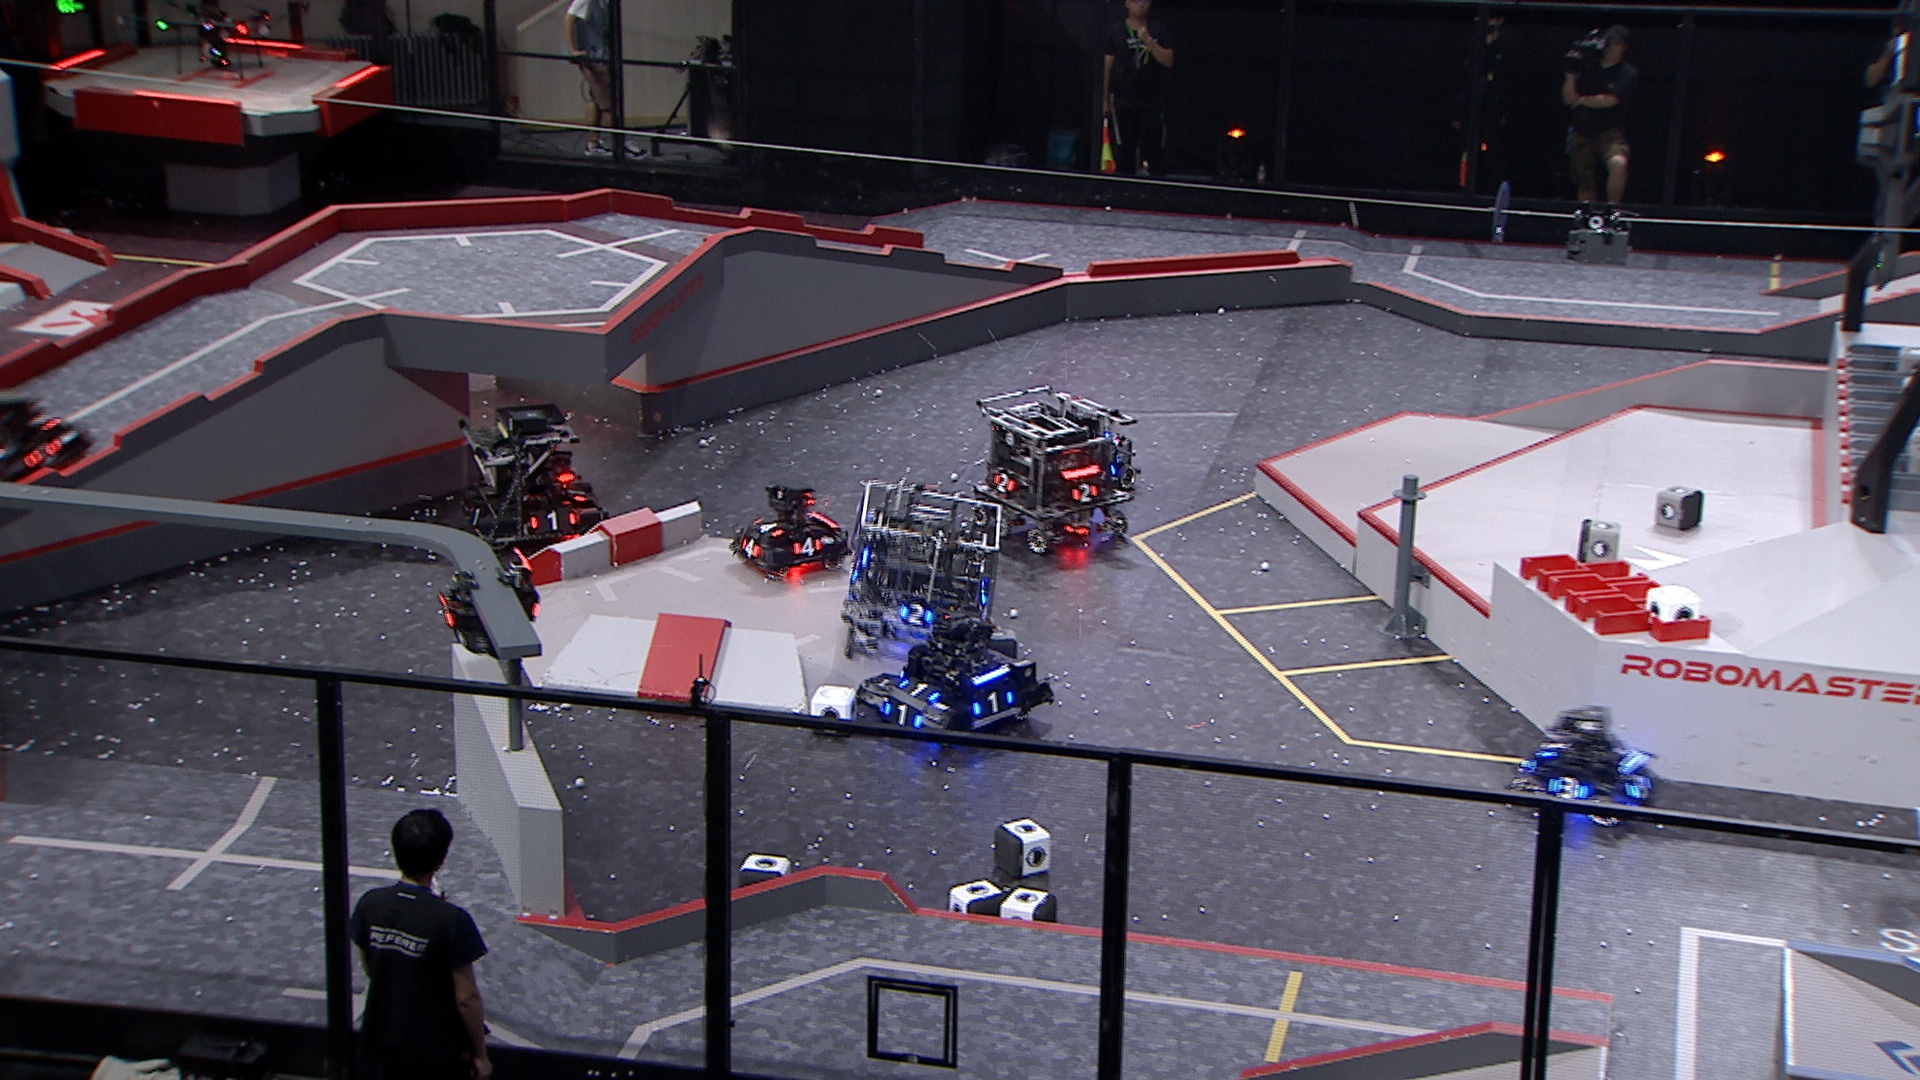armor: (18, 436, 61, 469), (973, 690, 1015, 717), (882, 702, 926, 728), (1549, 775, 1593, 802), (527, 510, 578, 531), (898, 680, 942, 703), (433, 593, 458, 632), (898, 603, 938, 626), (1626, 773, 1658, 802), (752, 516, 785, 541), (1538, 735, 1571, 760), (1069, 481, 1101, 505), (29, 410, 63, 431), (790, 535, 822, 556), (737, 537, 764, 560), (564, 484, 591, 506), (993, 472, 1015, 495), (465, 505, 485, 529)
car: (847, 613, 1058, 757), (839, 479, 1007, 655), (967, 385, 1139, 556), (454, 400, 612, 556), (1503, 703, 1659, 828), (728, 483, 851, 578)
watcher: (430, 547, 543, 662)
